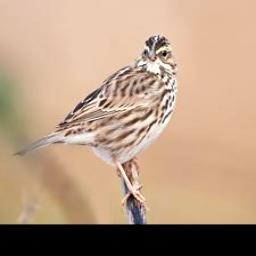Sparrow: (13, 34, 177, 215)
